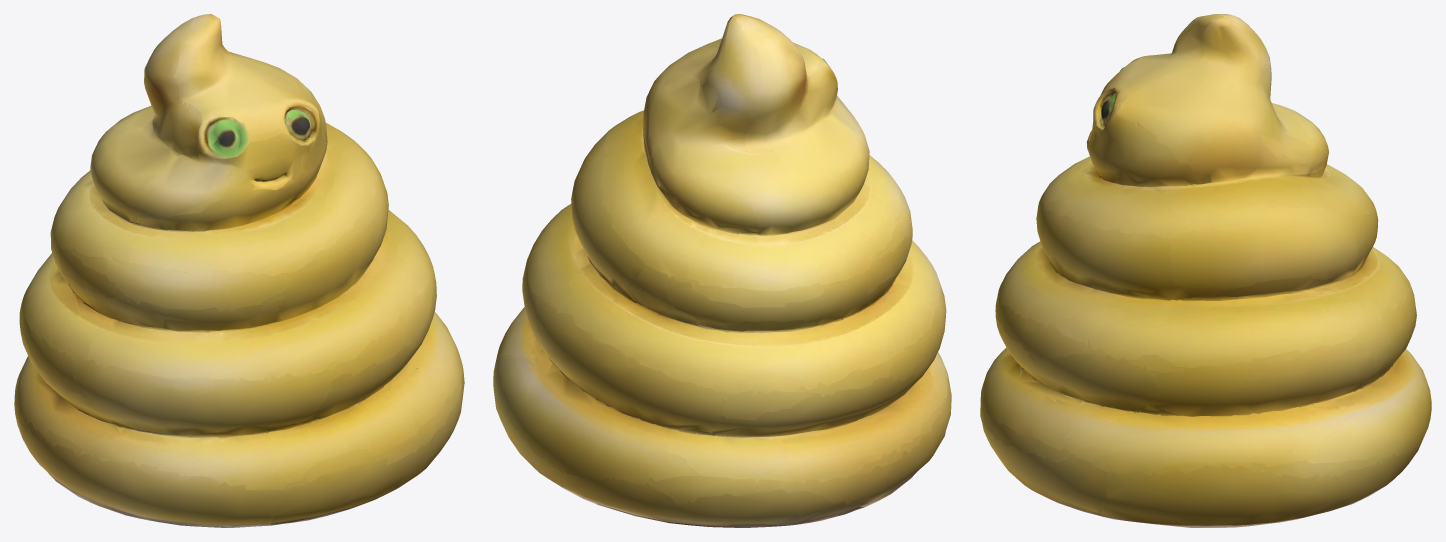
The model's file is naiwa_naishi_runtime.glb.
The picture shows the model from 3 angles, left to right: view 1: azimuth 30°, elevation 25°; view 2: azimuth 150°, elevation 25°; view 3: azimuth 270°, elevation 25°; orthographic projection.
Parts seen in each view (by area): view 1: geometry_0; view 2: geometry_0; view 3: geometry_0.
Boxes of the visible parts, x1,y1,x2,y2 form: geometry_0: (14,14,464,527); geometry_0: (493,14,951,527); geometry_0: (980,14,1431,527).
Size of the model in its own units: 0.1227 by 0.1299 by 0.1229.
Materials: 1 (1 with a texture image).
